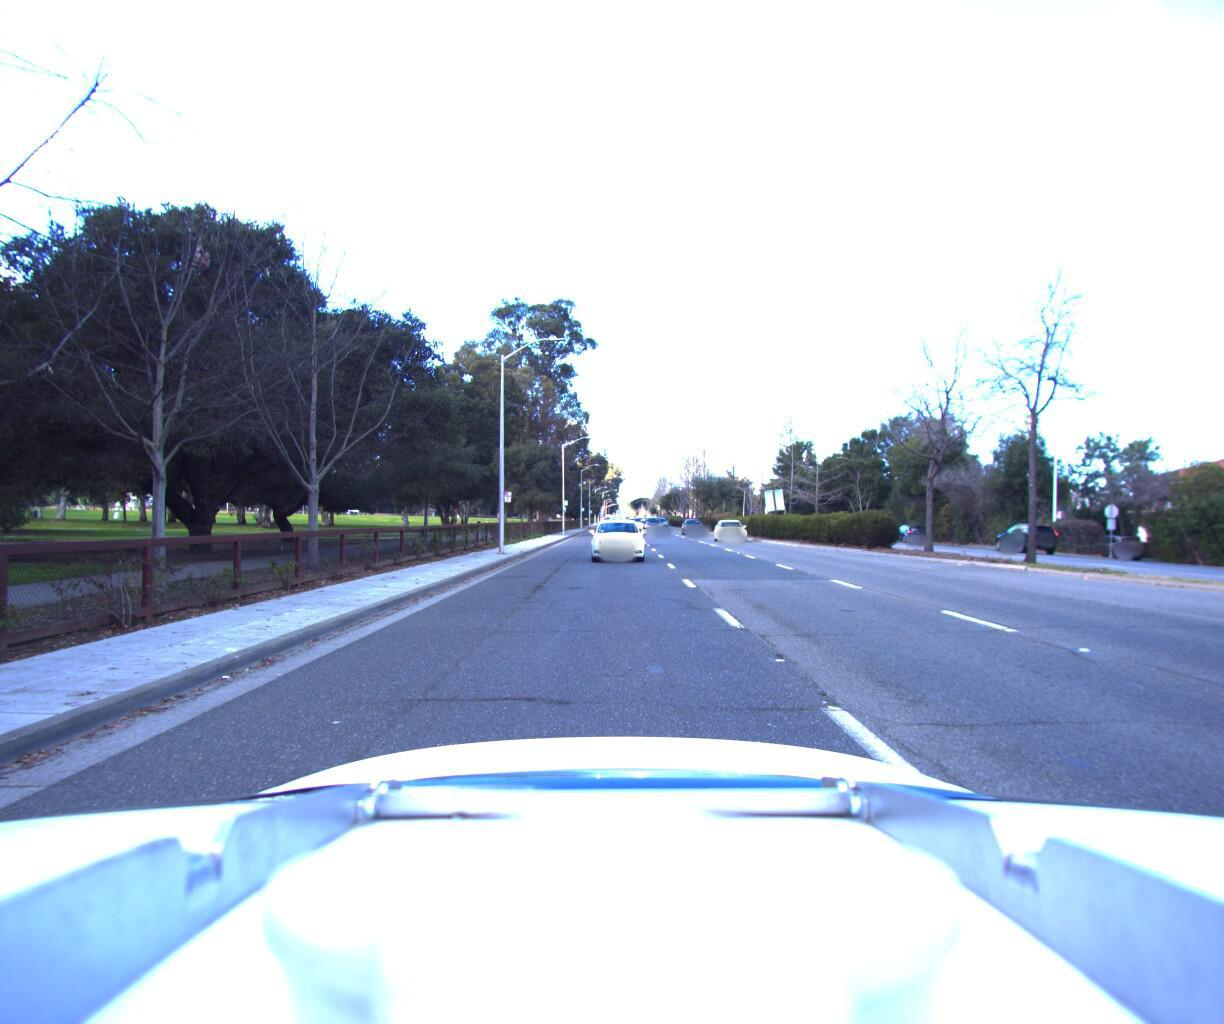car: (1176, 526, 1224, 601), (587, 514, 652, 562), (977, 519, 1051, 549), (709, 515, 753, 541), (882, 522, 924, 542), (681, 516, 707, 534), (642, 514, 665, 532)
